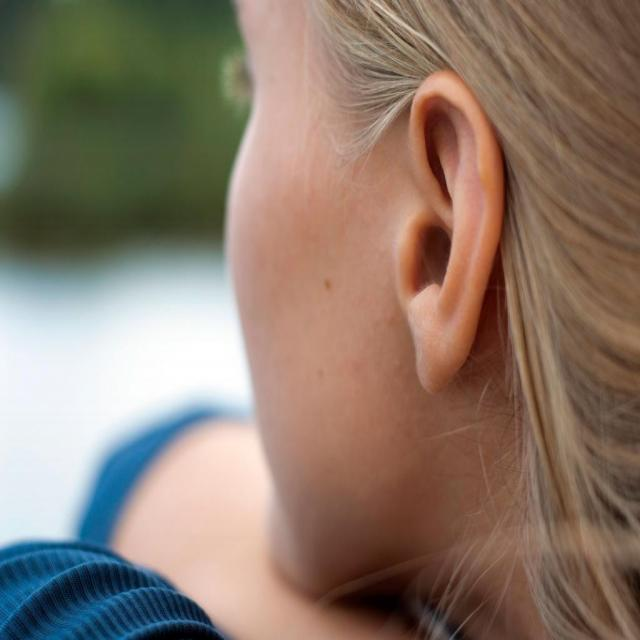earlobe: (409, 72, 502, 396)
